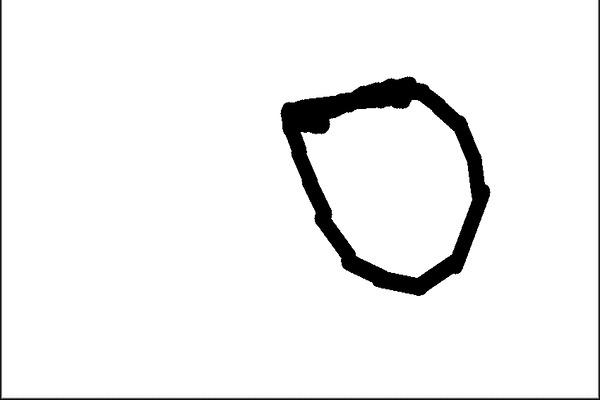O: (265, 68, 496, 304)
